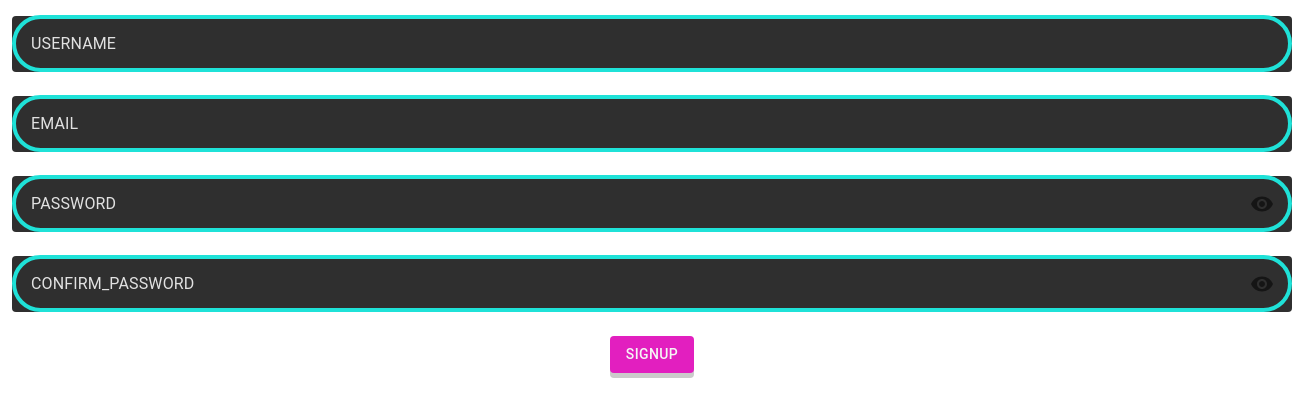
Scenario: auth register unit tests › email already taken is refused
Type "new" into the field labelled "USERNAME" at x=652, y=44, box [12,16,1292,72]
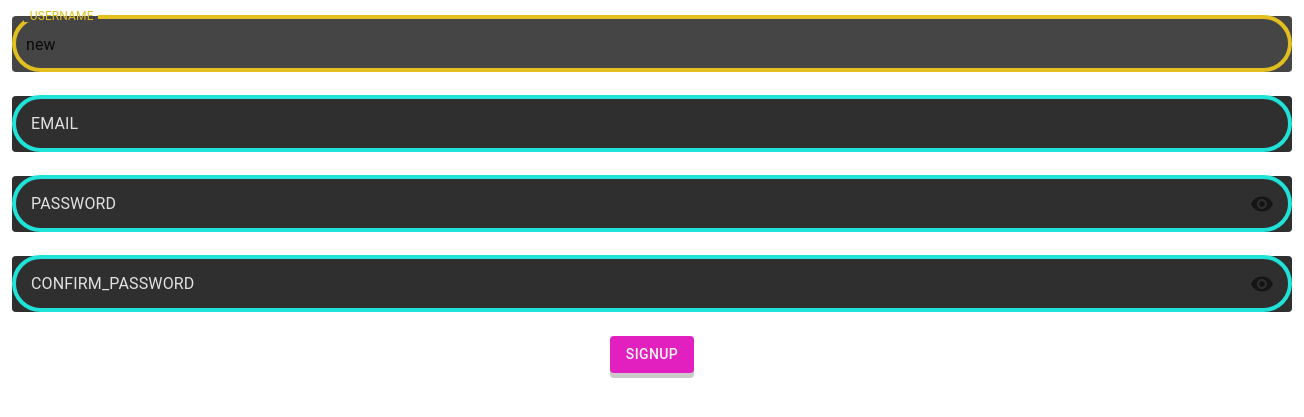
Type "john@42.fr" into the field labelled "EMAIL" at x=652, y=124, box [12,96,1292,152]
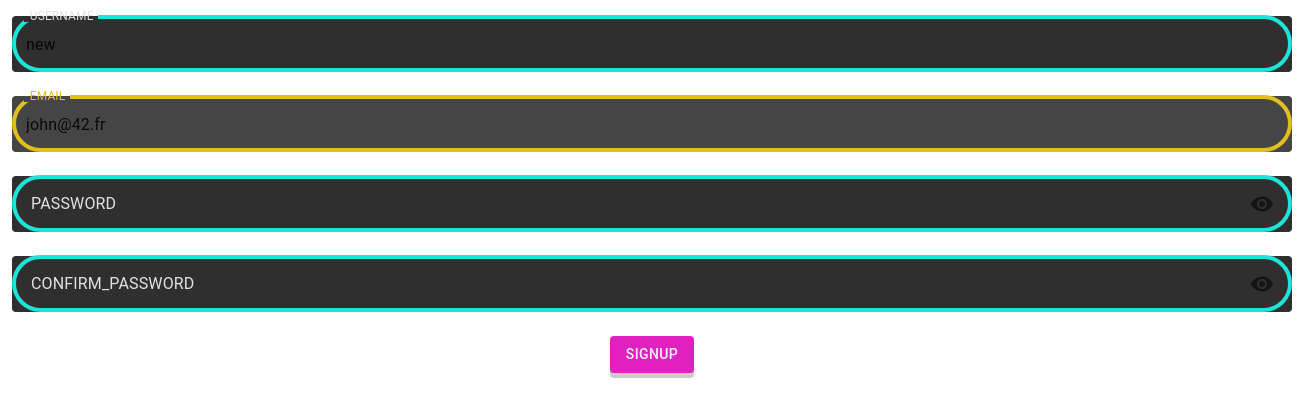
Type "Secret1!" into the password field labelled "PASSWORD" at x=623, y=204, box [12,176,1234,232]
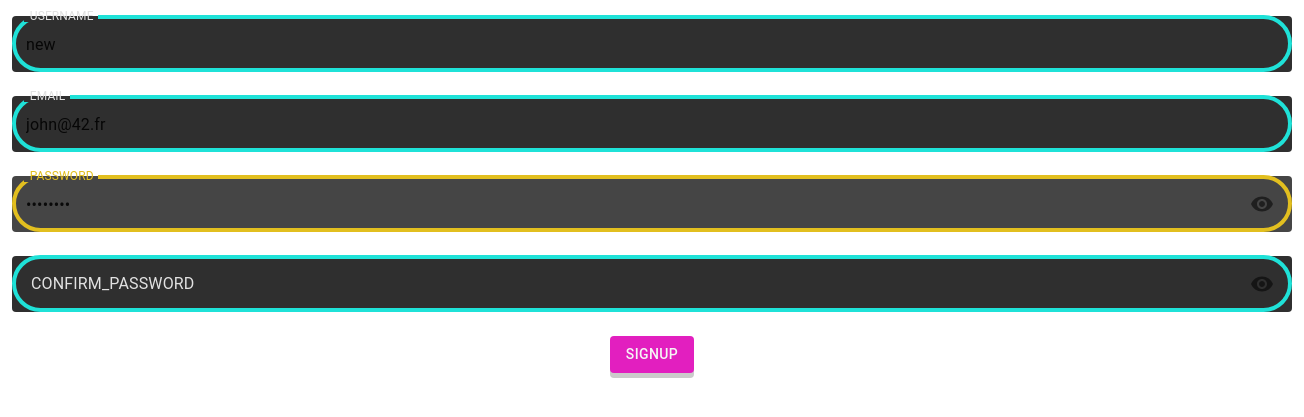
Type "Secret1!" into the password field labelled "CONFIRM_PASSWORD" at x=623, y=284, box [12,256,1234,312]
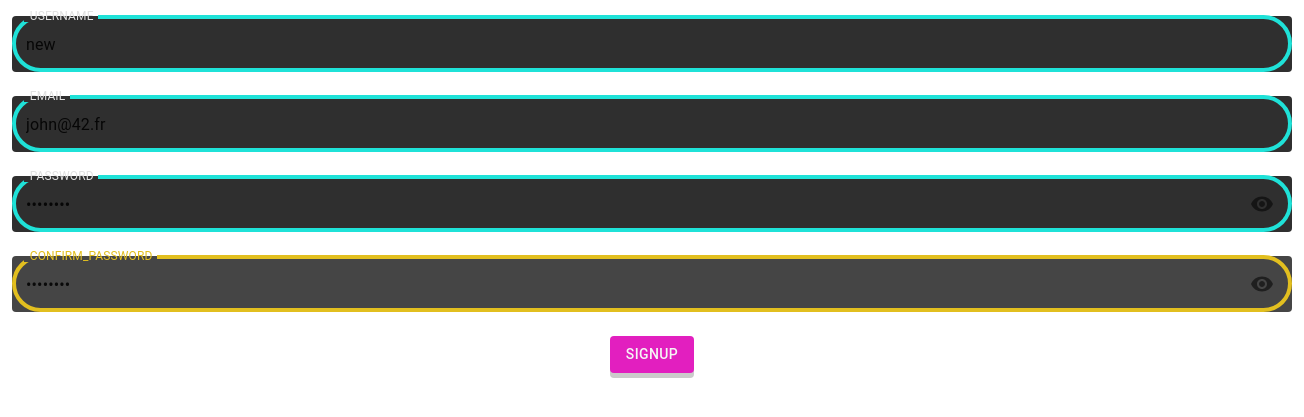
Click the button "SIGNUP" at x=652, y=354, box [610,336,694,372]
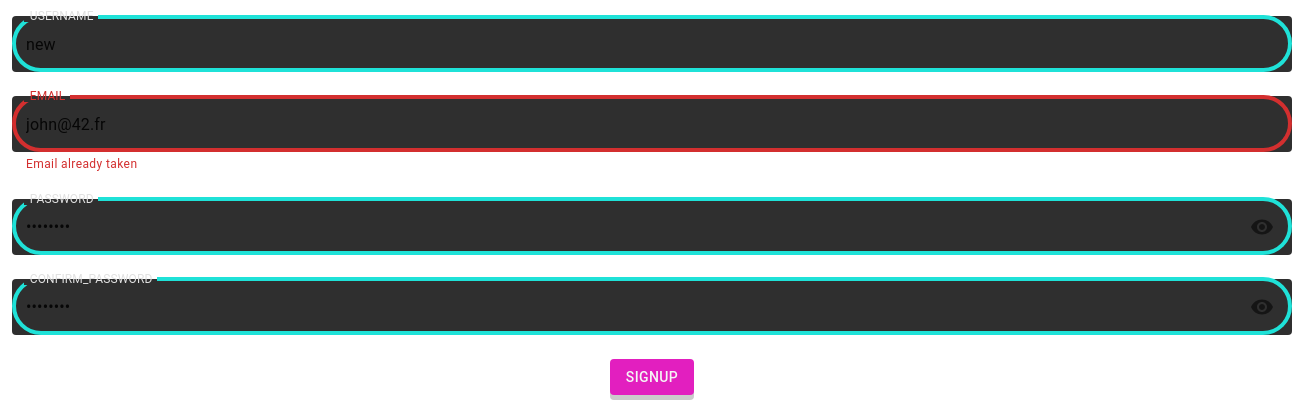
Check: the text "Email already taken" is shown, box [26,157,137,171]
